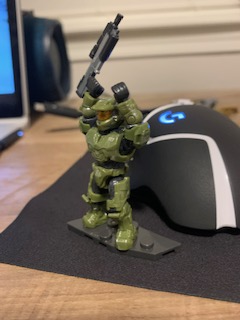chief: (77, 77, 152, 253)
rifle: (72, 10, 124, 100)
spartan: (75, 75, 150, 251)
up: (73, 76, 151, 167)
